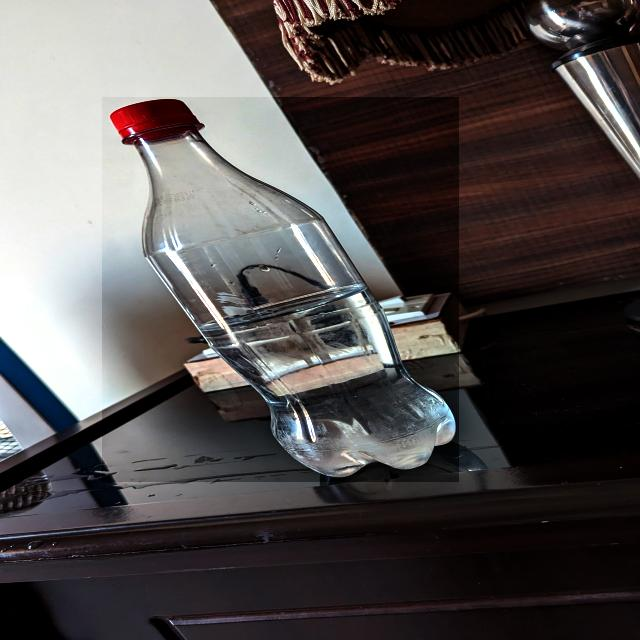half-bottle: (102, 97, 459, 482)
